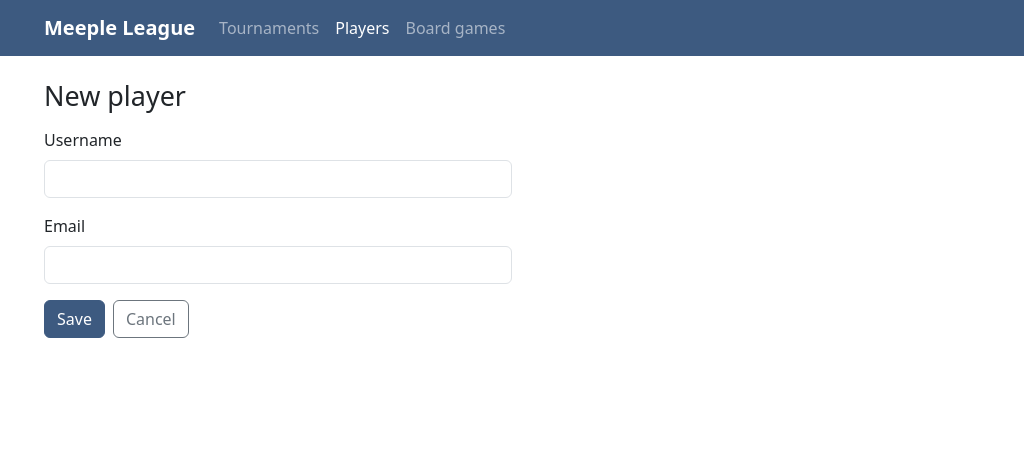
Scenario: players › shows validation errors next to their field
The image size is (1024, 454).
Type "ab" into the field labelled "Username" at {"x": 278, "y": 179}, box [44, 160, 512, 198]
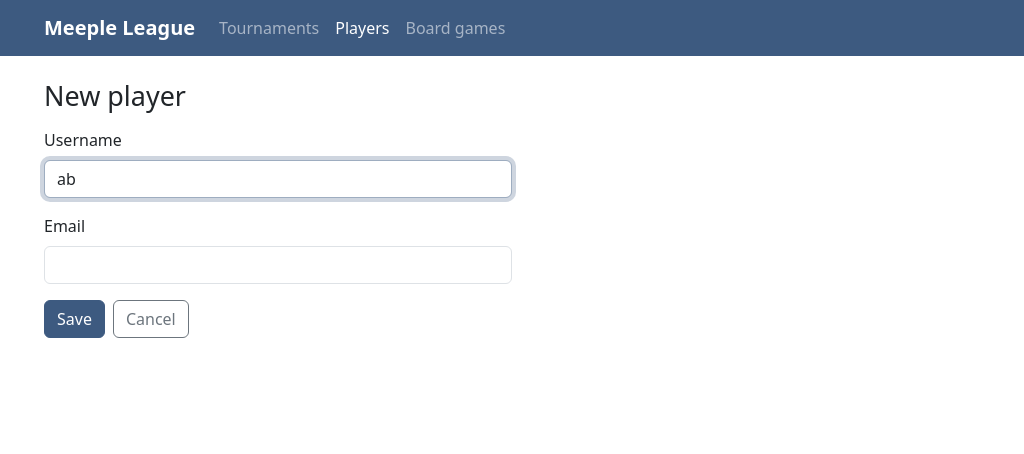
Click the button "Save" at {"x": 74, "y": 319}, box [44, 300, 105, 338]
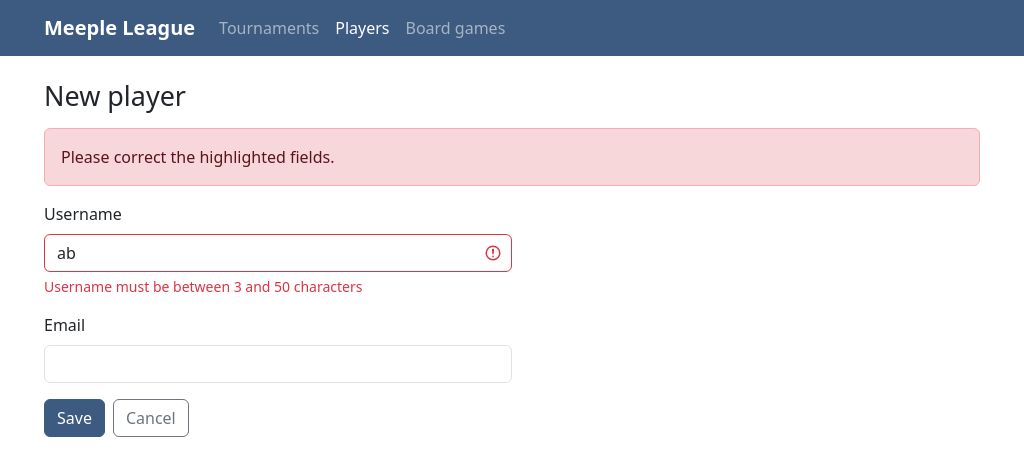
Result: the text "Username must be between 3 and 50 characters" is shown at [44, 277, 362, 296]
Result: the message reads "Please correct the highlighted fields." at [61, 146, 334, 168]
